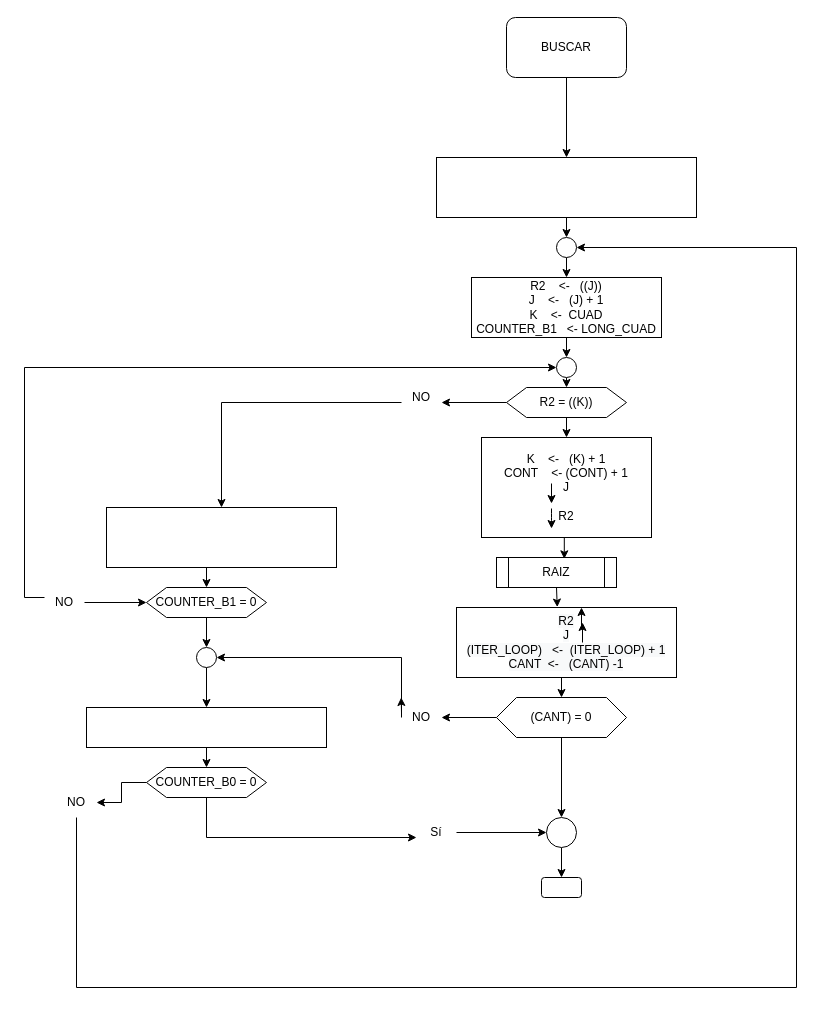
The diagram is 822 pixels wide and 1013 high, and some of its shapes have lost their labels. The centre of each missing label's shape, as x and y in pixels:
CONT <- 0 COUNTER_B0 <- (LONG) ITER_LOOP <- ENTERO J <- DATOS: point 566,187
COUNTER_B0 <- COUNTER_B0 -1: point 206,727
end: point 561,887
K <- (K) + 1 COUNTER_B1 <- COUNTER_B1 -1: point 221,537
